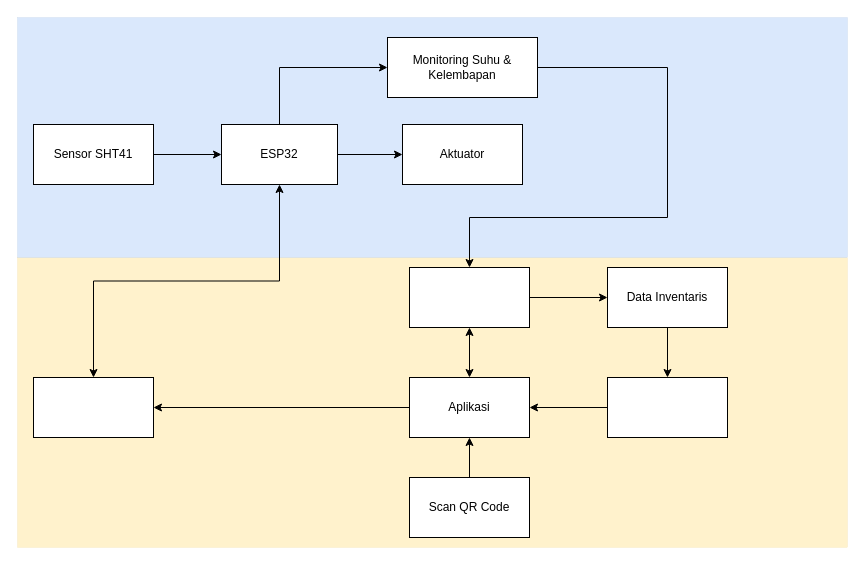
This 864x564 diagram has some shape labels left out. The centre of each missing label's shape, as x and y in pixels:
Database: (x=469, y=297)
Google Spreadsheet: (x=667, y=407)
Kontrol Kendali Suhu & Kelembapan: (x=93, y=407)
